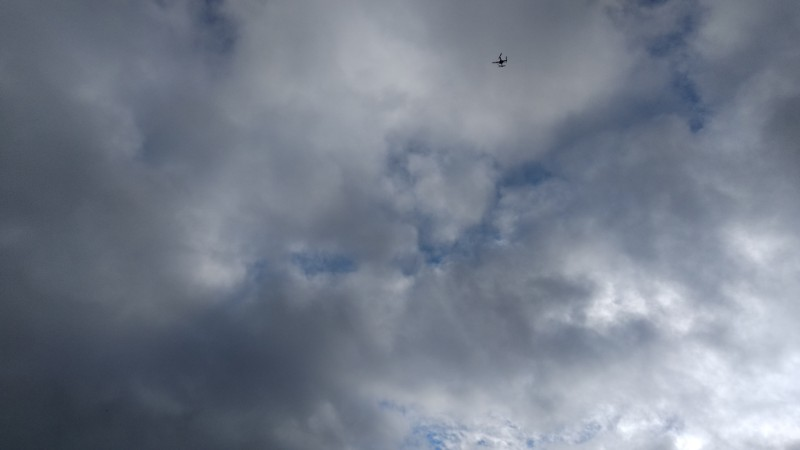drone: (492, 53, 508, 67)
